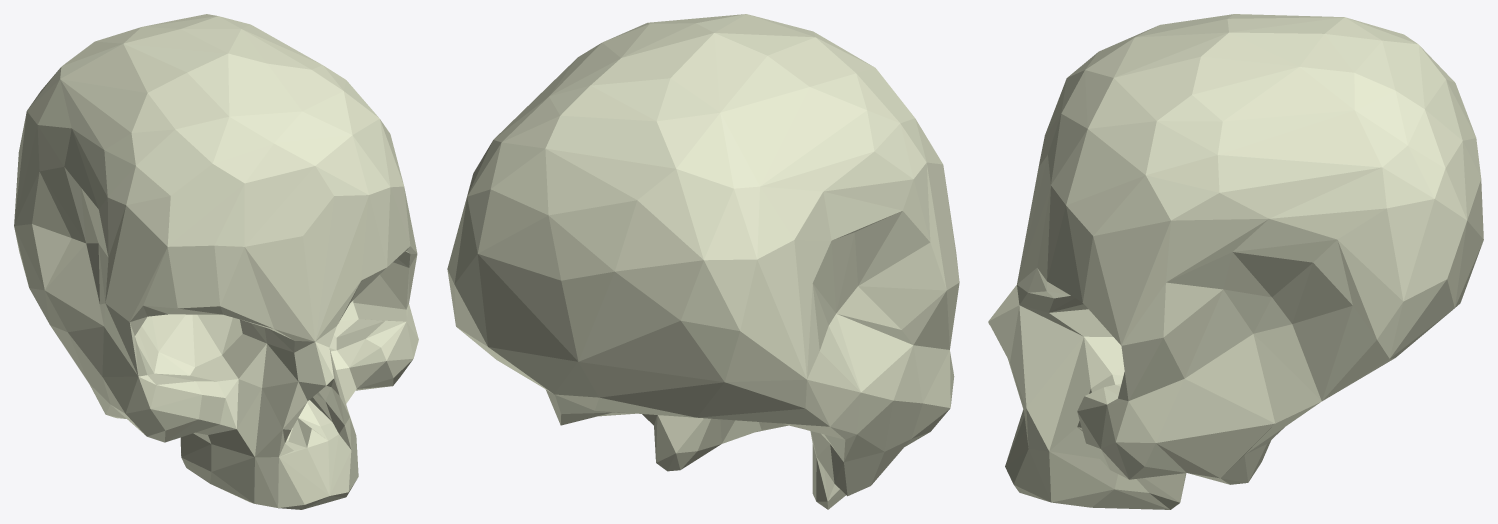
The picture shows the model from 3 angles, left to right: view 1: azimuth 30°, elevation 25°; view 2: azimuth 150°, elevation 25°; view 3: azimuth 270°, elevation 25°; orthographic projection. The views are drawn at different scales.
Parts seen in each view (by area): view 1: Flying_Skull; view 2: Flying_Skull; view 3: Flying_Skull.
Boxes of the visible parts, bbox=[...] form: Flying_Skull: bbox=[14, 14, 418, 509]; Flying_Skull: bbox=[447, 14, 959, 509]; Flying_Skull: bbox=[988, 14, 1483, 509].
Size of the model in its own units: 33.88 by 41.43 by 41.81.
